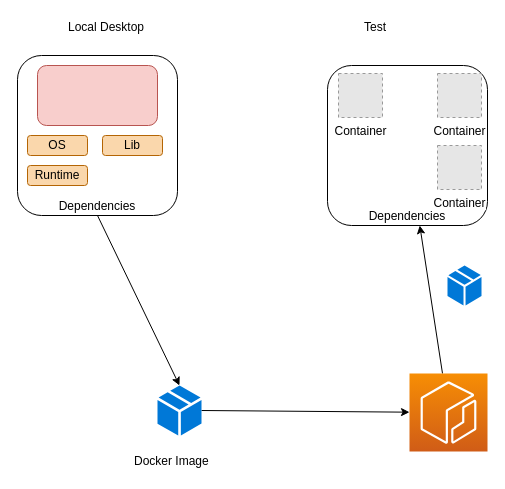
Image size: 505x489. Some labels were removed from this diagram. Grey dashed boxes stand in for pictures. Here are the shapes that lost their labels. From the top down, the box of each, then its label:
(36, 64, 158, 126): App
(408, 372, 488, 452): Registry
